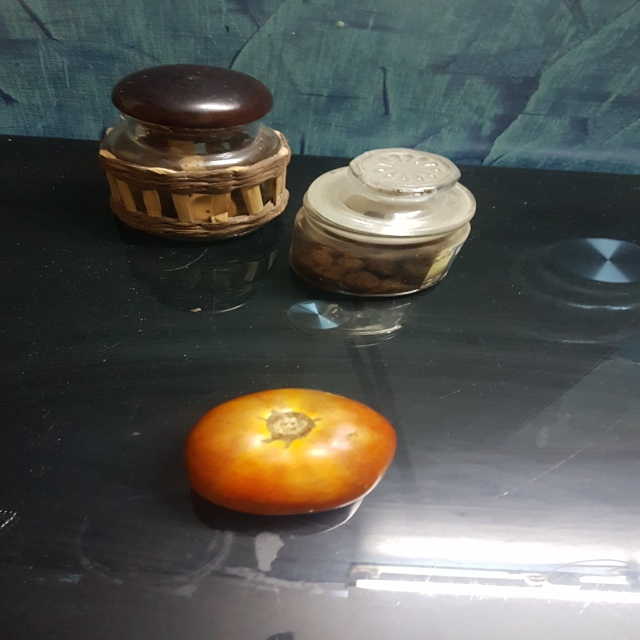tomato: (175, 383, 402, 525)
